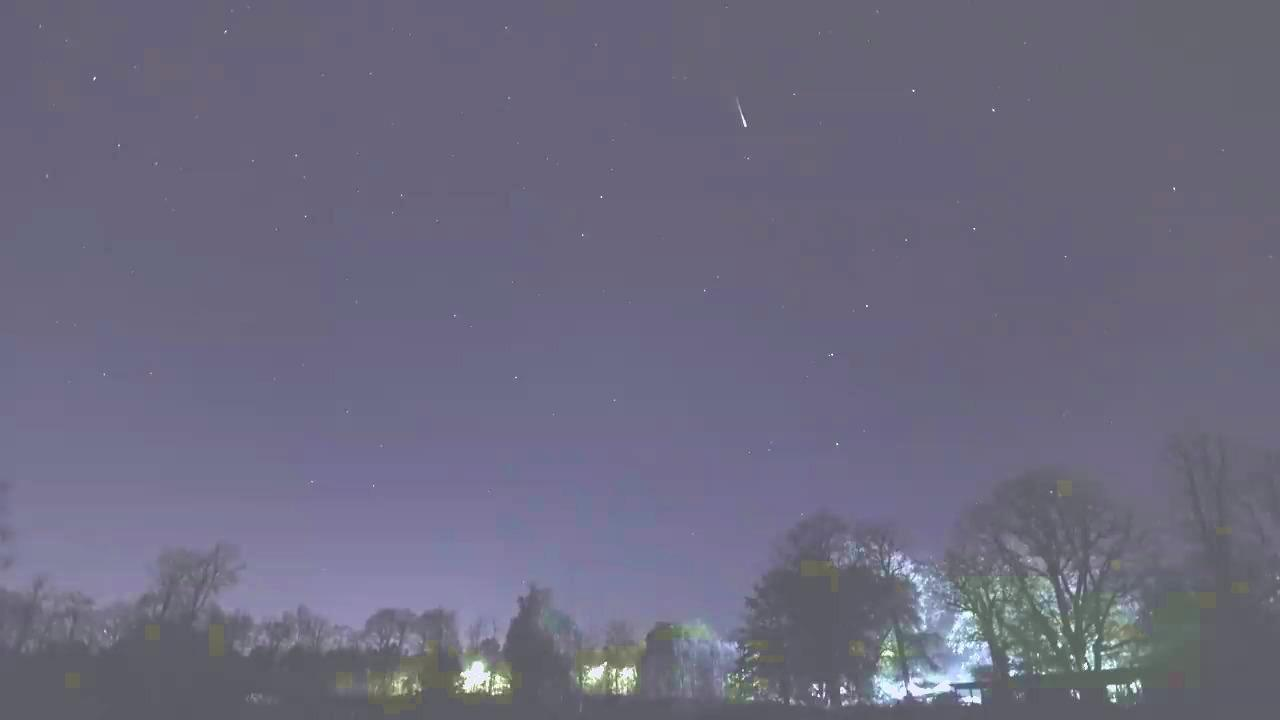meteorite: (686, 94, 790, 130)
